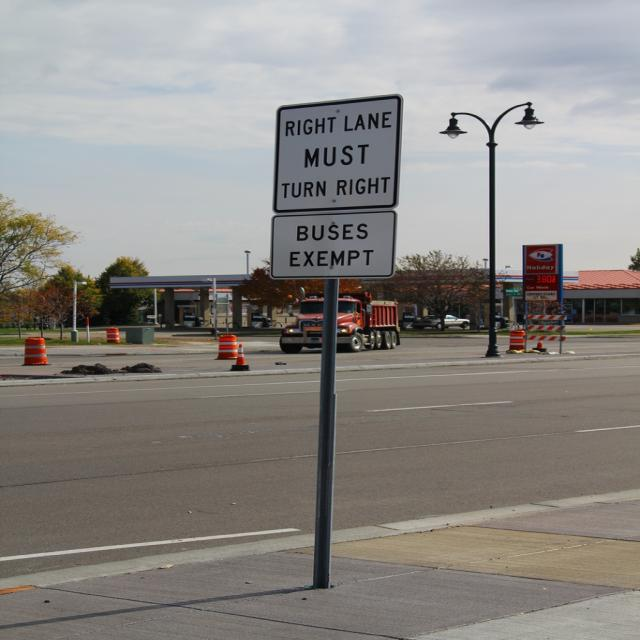car: (412, 313, 471, 331)
